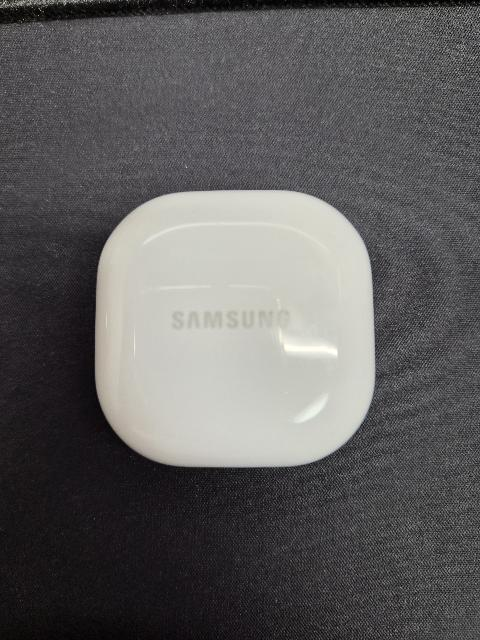earphone_case: (94, 189, 375, 468)
